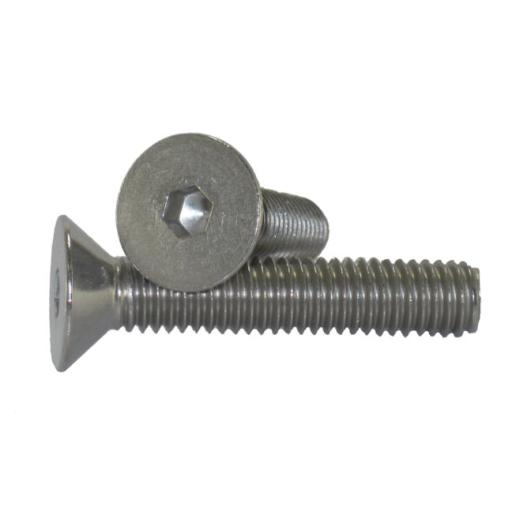Hex-Allen: (116, 131, 262, 295)
